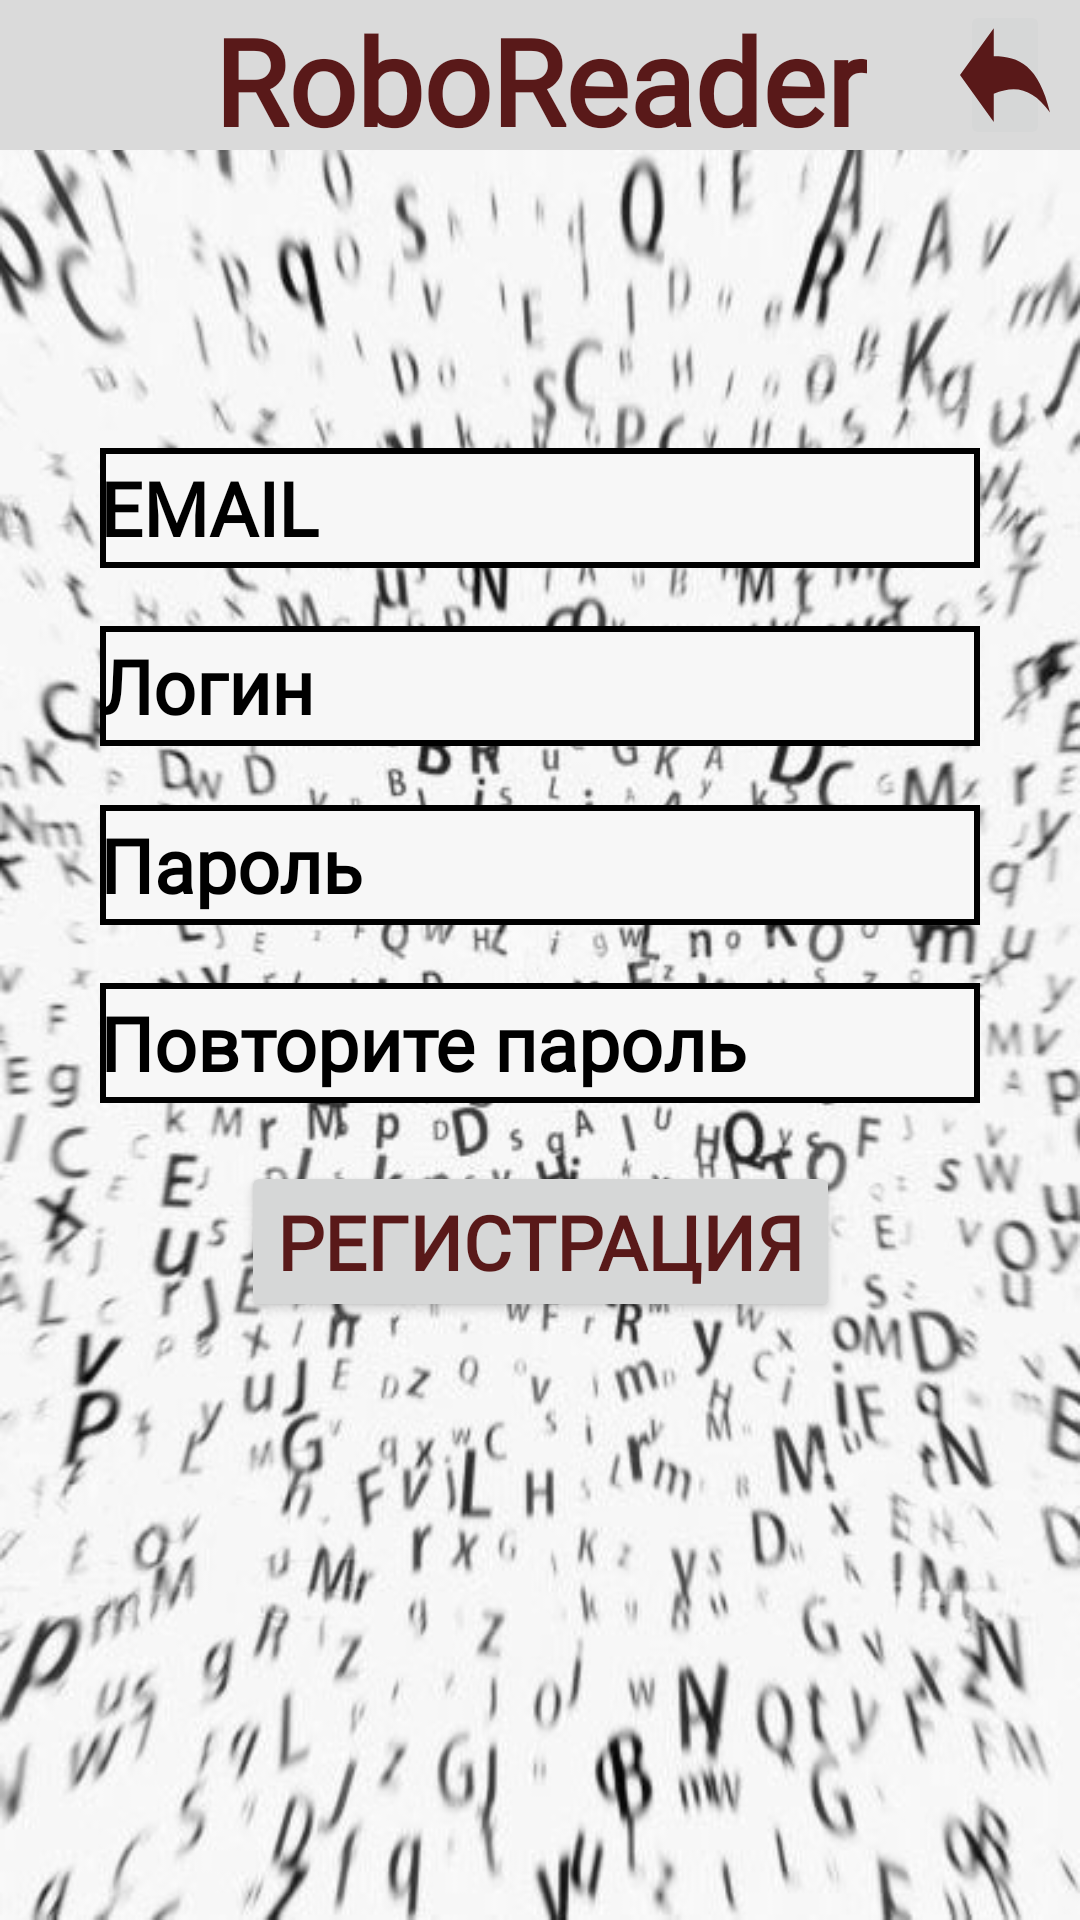

Named icons in this screenshot (1080w x 1920h) and their bounding boxes, (x1, y1, x2, y2):
arrow address back: (960, 28, 1050, 122)
